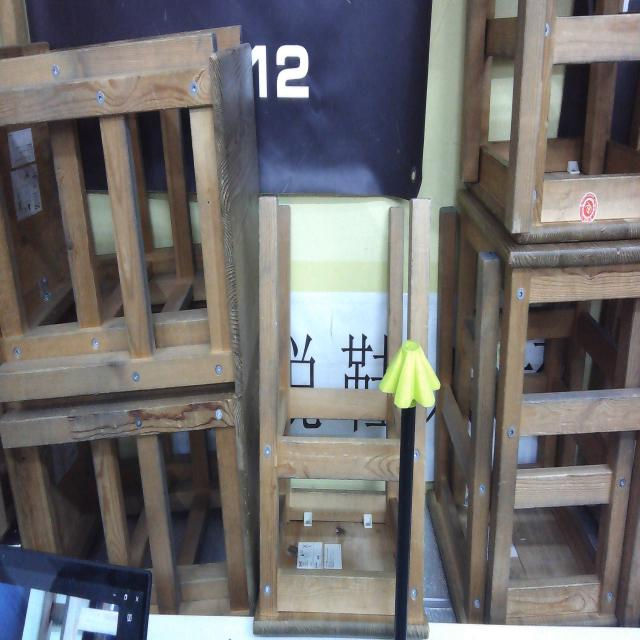Yellow-Stake-Head: (378, 340, 441, 409)
